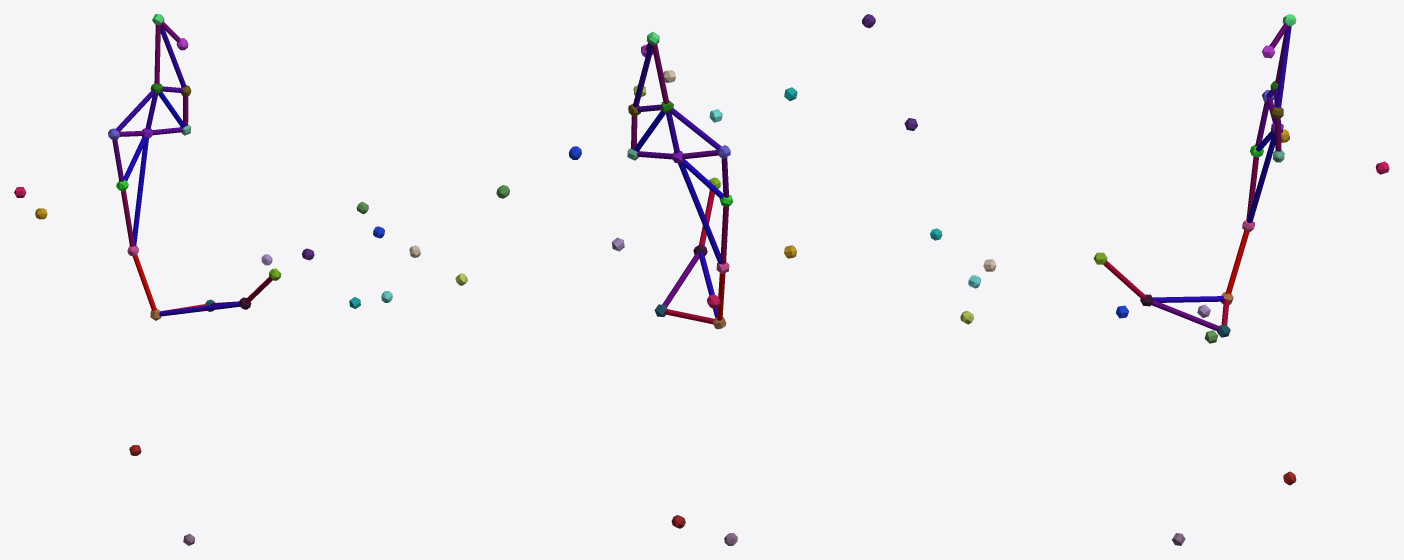
Rendered from fg-00030-skel.obj.
3 renders of one model, left to right at view 1: azimuth 30°, elevation 25°; view 2: azimuth 150°, elevation 25°; view 3: azimuth 270°, elevation 25°, orthographic. The views are drawn at different scales.
Size of the model in its own units: 0.2687 by 0.4208 by 0.3414.
